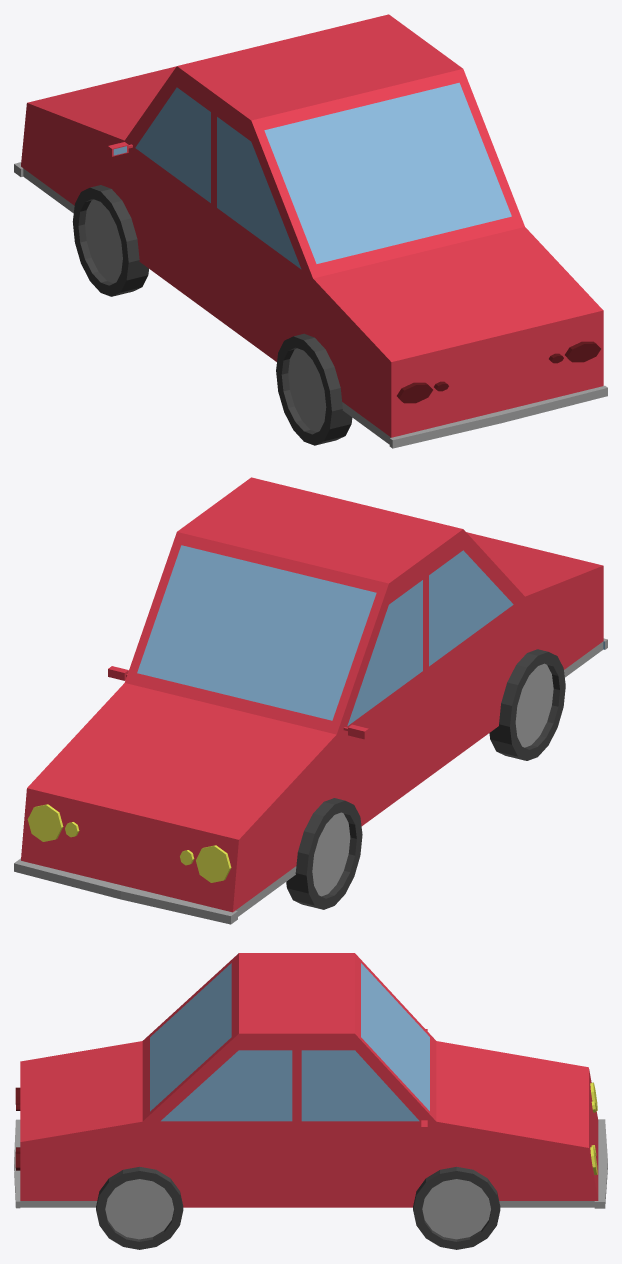
The model's file is Car.fbx.
The picture shows the model from 3 angles, top to bottom: view 1: azimuth 30°, elevation 25°; view 2: azimuth 150°, elevation 25°; view 3: azimuth 270°, elevation 25°; orthographic projection. The views are drawn at different scales.
Parts seen in each view (by area): view 1: Main, Back wheels, Forward wheels, Back headlights; view 2: Main, Forward wheels, Back wheels, Forward headlights; view 3: Main, Back wheels, Forward wheels.
Boxes of the visible parts, <box> form: Main: <box>14,14,607,448</box>; Back wheels: <box>276,333,352,445</box>; Forward wheels: <box>72,185,148,296</box>; Back headlights: <box>397,341,600,403</box>; Main: <box>14,477,607,924</box>; Forward wheels: <box>286,798,362,909</box>; Back wheels: <box>489,649,565,760</box>; Forward headlights: <box>27,804,231,882</box>; Main: <box>14,953,607,1208</box>; Back wheels: <box>96,1166,183,1249</box>; Forward wheels: <box>413,1166,500,1249</box>.
Bounding box in the file's own units: 359 × 364 × 923.
